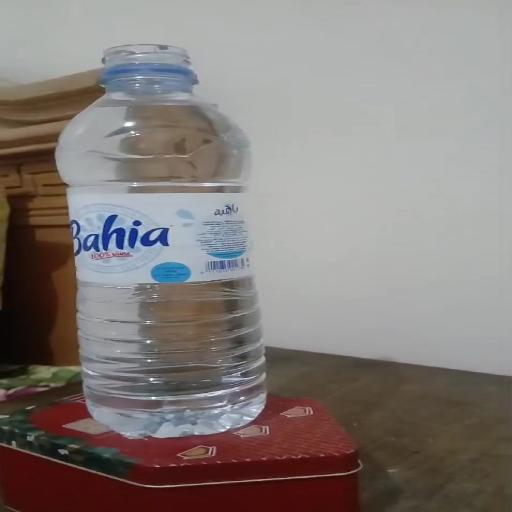bouteille non conformite: (84, 38, 255, 434)
